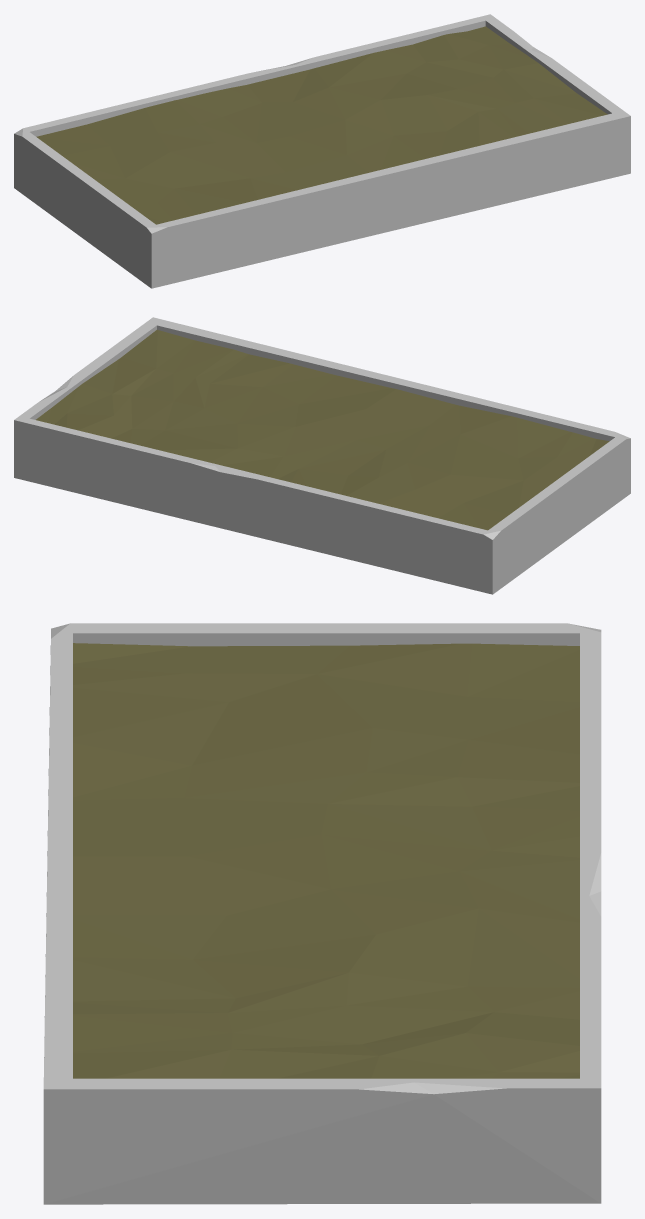
The model's file is SM_Bld_Planter_Box_02.fbx.
3 renders of one model, top to bottom at view 1: azimuth 30°, elevation 25°; view 2: azimuth 150°, elevation 25°; view 3: azimuth 270°, elevation 25°, orthographic. The views are drawn at different scales.
Visible parts, largest first — view 1: SM_Bld_Planter_Box_02; view 2: SM_Bld_Planter_Box_02; view 3: SM_Bld_Planter_Box_02.
Part boxes in pixels (x1=…): SM_Bld_Planter_Box_02: x1=14, y1=14, x2=630, y2=288; SM_Bld_Planter_Box_02: x1=14, y1=317, x2=630, y2=594; SM_Bld_Planter_Box_02: x1=43, y1=623, x2=601, y2=1204.
Bounding box in the file's own units: 1002 × 115 × 507.
